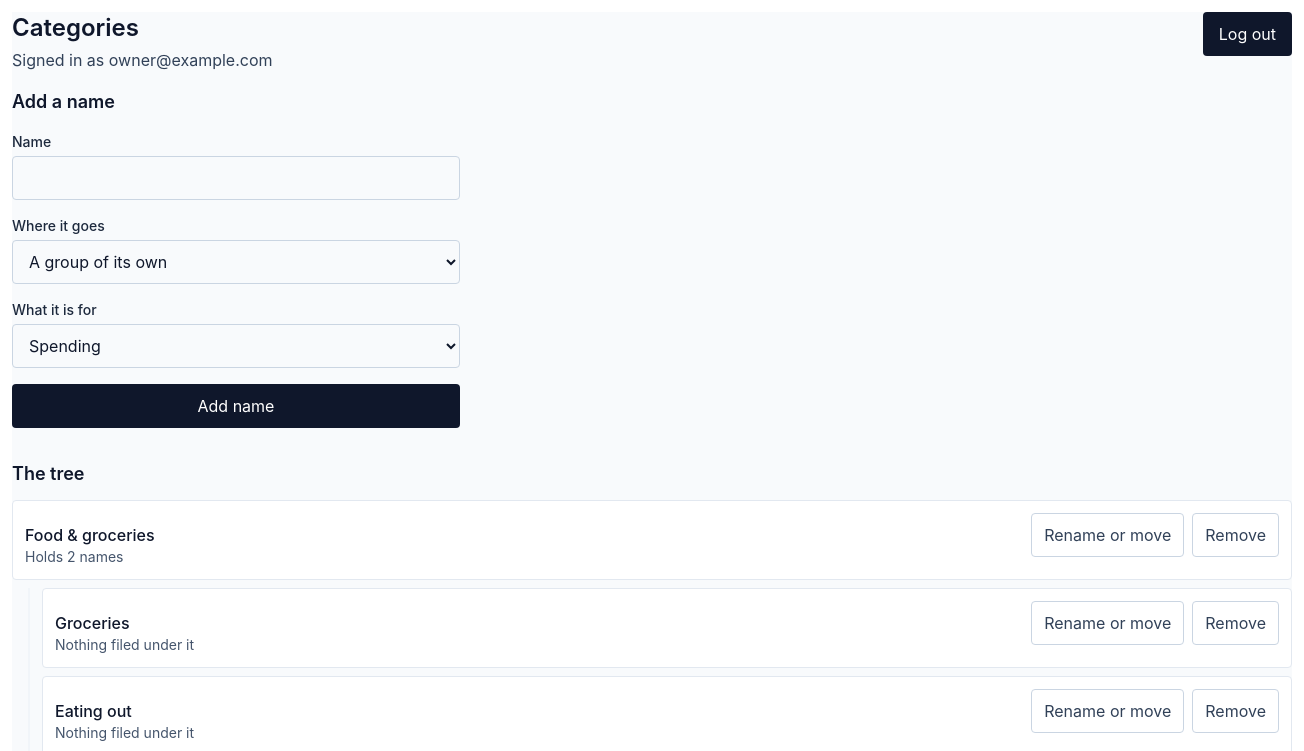
Test case: CategoriesPage › refuses to move a group that holds names, and does not offer it
Check: the heading "The tree" is shown, box [12,463,84,484]
What coordinates should you click on to do the following:
click the button "Rename or move" in the row of "Food & groceries"
I would click on:
 (1108, 535)
Its box is [1031,513,1184,557].
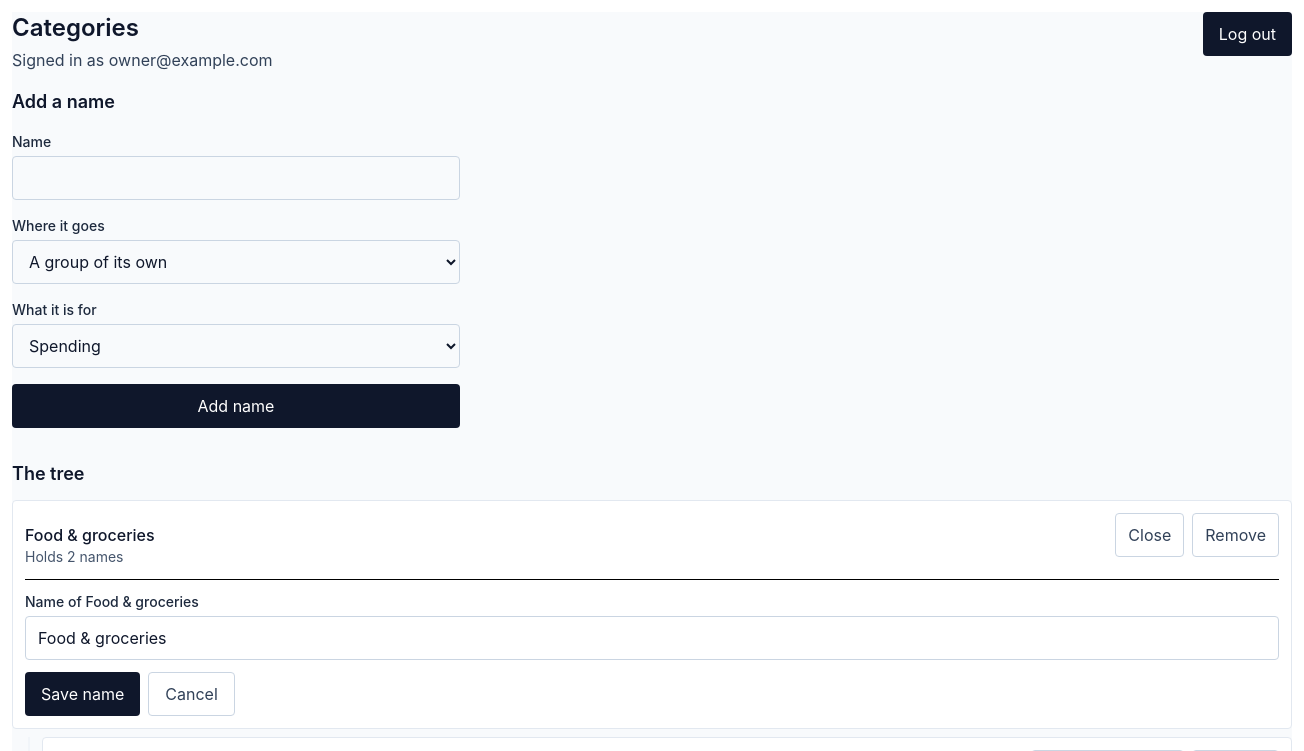
Check: the field labelled "Name of Food & groceries" holds "Food & groceries", box [25,616,1279,660]
